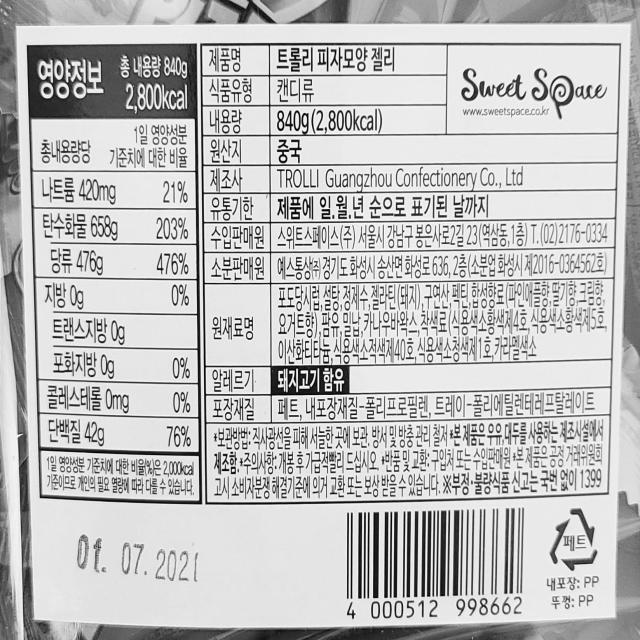Nutrition Label: (16, 31, 210, 519)
